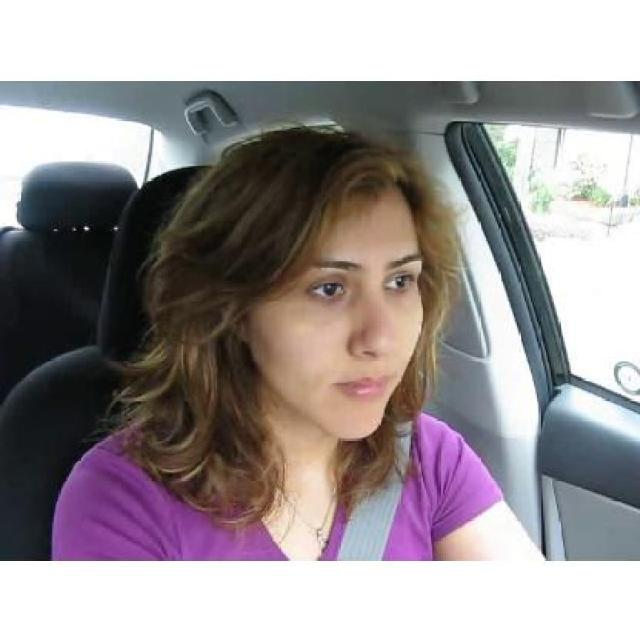attentif: (228, 129, 424, 440)
